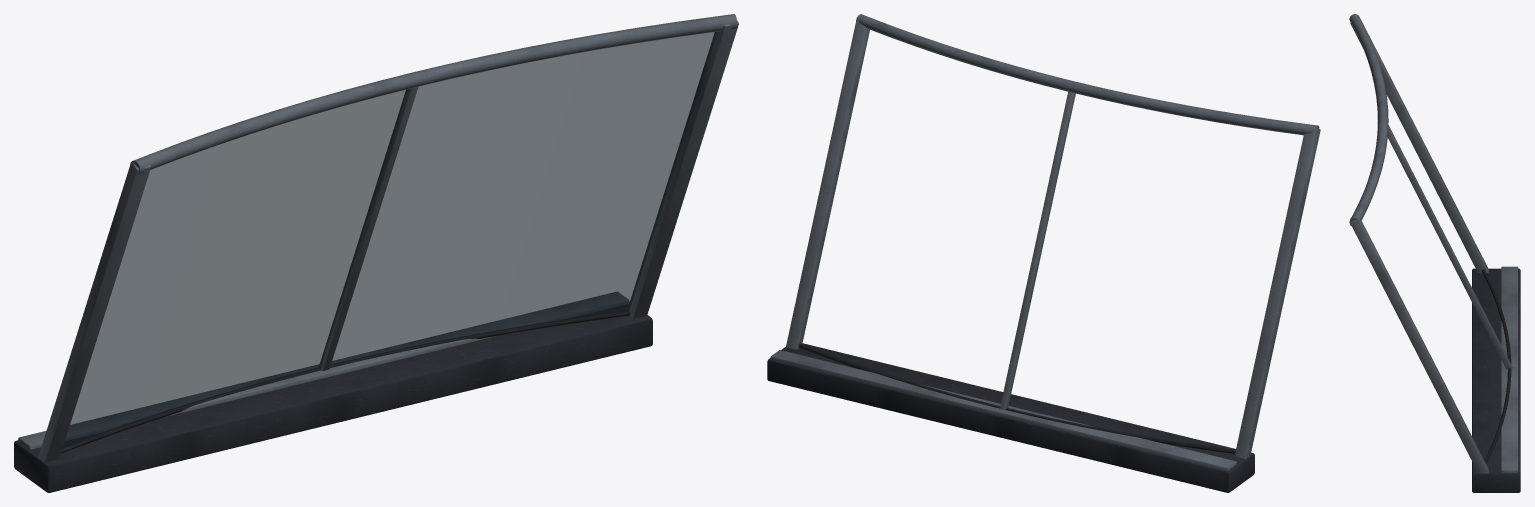
File: windshield_large.glb
The picture shows the model from 3 angles, left to right: view 1: azimuth 30°, elevation 25°; view 2: azimuth 150°, elevation 25°; view 3: azimuth 270°, elevation 25°; orthographic projection. The views are drawn at different scales.
Parts seen in each view (by area): view 1: WindshieldLargeMesh; view 2: WindshieldLargeMesh; view 3: WindshieldLargeMesh.
Part boxes in pixels (x1,y1,x2,y2): WindshieldLargeMesh: (14, 14, 738, 492); WindshieldLargeMesh: (767, 14, 1320, 492); WindshieldLargeMesh: (1349, 14, 1520, 492).
Size of the model in its own units: 2 by 1.24 by 0.703.
Materials: 6 (4 with a texture image).
